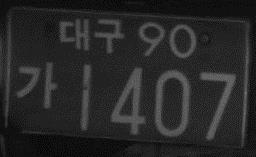0: (154, 67, 191, 140), (167, 23, 197, 60)
1: (76, 61, 93, 134)
4: (108, 64, 147, 135)
7: (197, 69, 238, 141)
9: (137, 20, 165, 58)
가: (15, 59, 60, 111)
대구_O: (57, 16, 125, 56)
